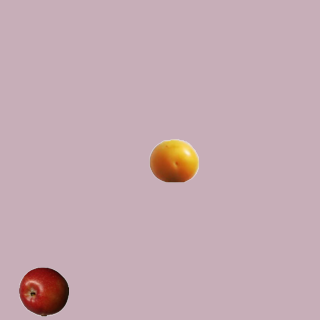Apple Braeburn: (18, 266, 68, 316)
Cherry Wax Yellow: (148, 135, 198, 185)
